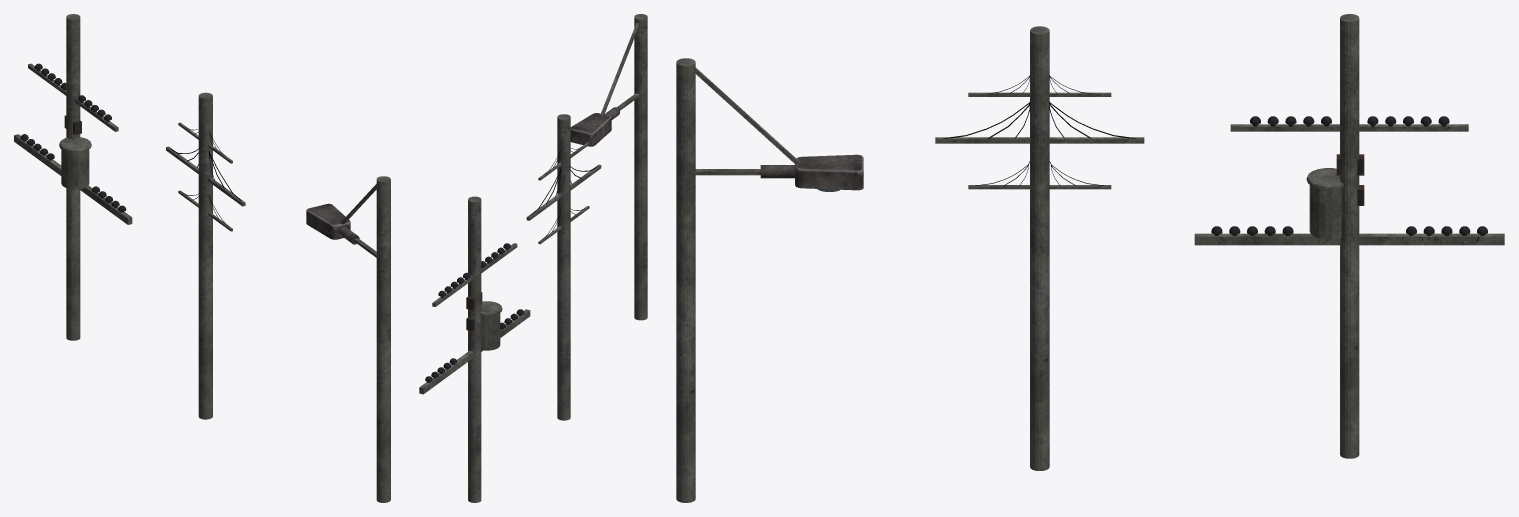
The model's file is electric pillars .fbx.
3 views of the same model, side by side, from view 1: azimuth 30°, elevation 25°; view 2: azimuth 150°, elevation 25°; view 3: azimuth 270°, elevation 25° (orthographic). The views are drawn at different scales.
Visible parts, largest first — view 1: Cylinder.049, Cylinder.061, Cylinder.045; view 2: Cylinder.049, Cylinder.061, Cylinder.045; view 3: Cylinder.049, Cylinder.061, Cylinder.045.
Part boxes in pixels (x1,y1,x2,y2): Cylinder.049: (14,14,132,340); Cylinder.061: (306,176,390,502); Cylinder.045: (166,92,245,419); Cylinder.049: (419,196,530,502); Cylinder.061: (570,14,647,320); Cylinder.045: (526,114,601,420); Cylinder.049: (1194,14,1504,458); Cylinder.061: (676,58,863,502); Cylinder.045: (935,26,1144,470).
Size of the model in its own units: 95.87 by 300 by 515.
